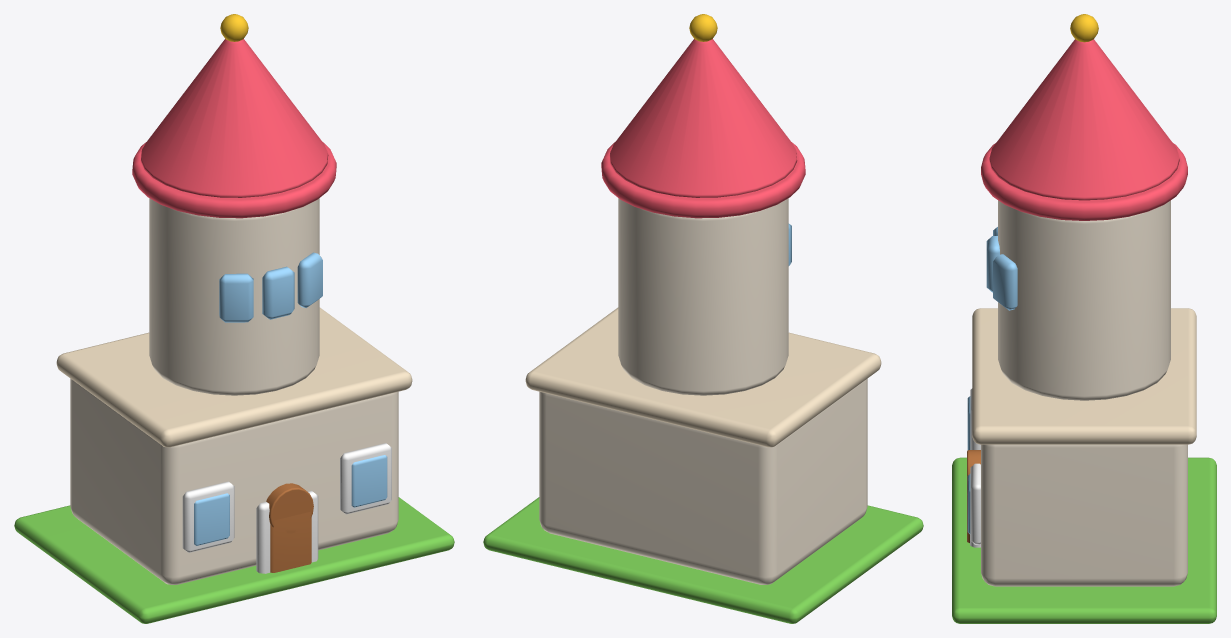
3 renders of one model, left to right at view 1: azimuth 30°, elevation 25°; view 2: azimuth 150°, elevation 25°; view 3: azimuth 270°, elevation 25°, orthographic.
Parts seen in each view (by area): view 1: Cube; view 2: Cube; view 3: Cube.
Part boxes in pixels (x1=…): Cube: x1=14, y1=14, x2=454, y2=623; Cube: x1=483, y1=14, x2=923, y2=623; Cube: x1=952, y1=14, x2=1216, y2=623.
Bounding box in the file's own units: 0.64 × 1.02 × 0.46.
